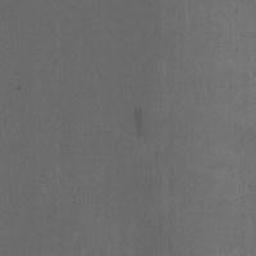Inclusion: (133, 102, 143, 140), (15, 84, 22, 92)
